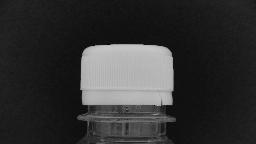Broken Ring: (148, 89, 172, 107)
Loose Cap: (72, 86, 182, 127)
